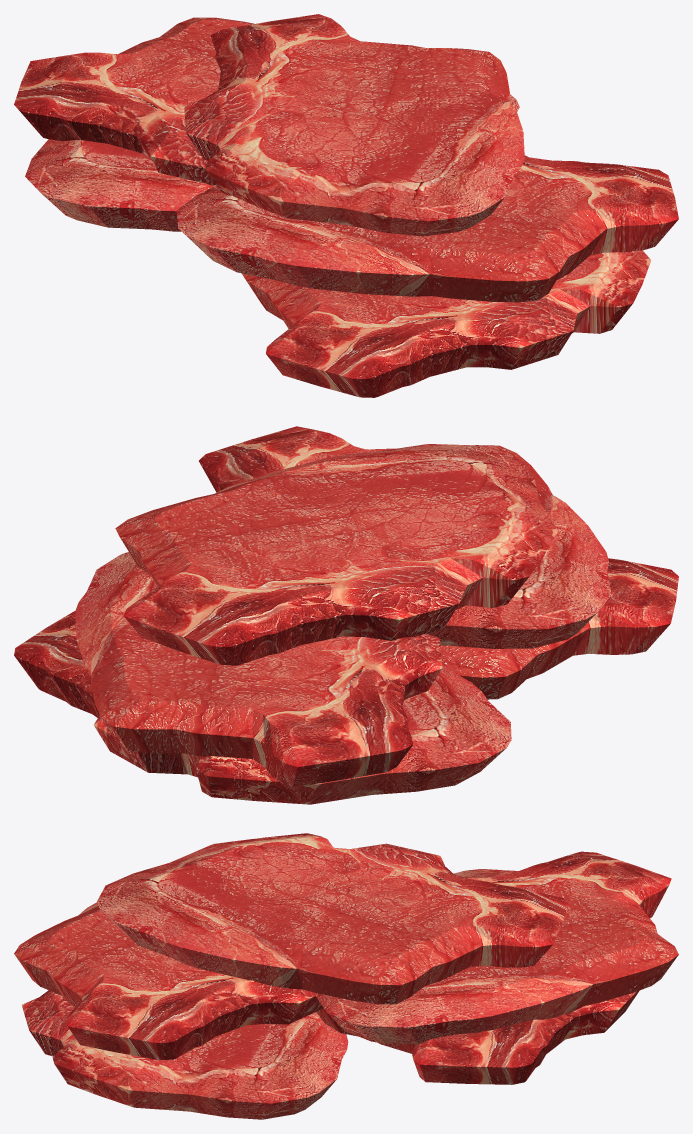
The model's file is RawMeat.FBX.
3 views of the same model, one above another, from view 1: azimuth 30°, elevation 25°; view 2: azimuth 150°, elevation 25°; view 3: azimuth 270°, elevation 25° (orthographic). The views are drawn at different scales.
Parts seen in each view (by area): view 1: Raw_meat; view 2: Raw_meat; view 3: Raw_meat.
Boxes of the visible parts, bbox=[...] form: Raw_meat: bbox=[14, 14, 678, 397]; Raw_meat: bbox=[14, 426, 678, 804]; Raw_meat: bbox=[14, 833, 678, 1119].
Bounding box in the file's own units: 38.36 × 11.85 × 52.24.
